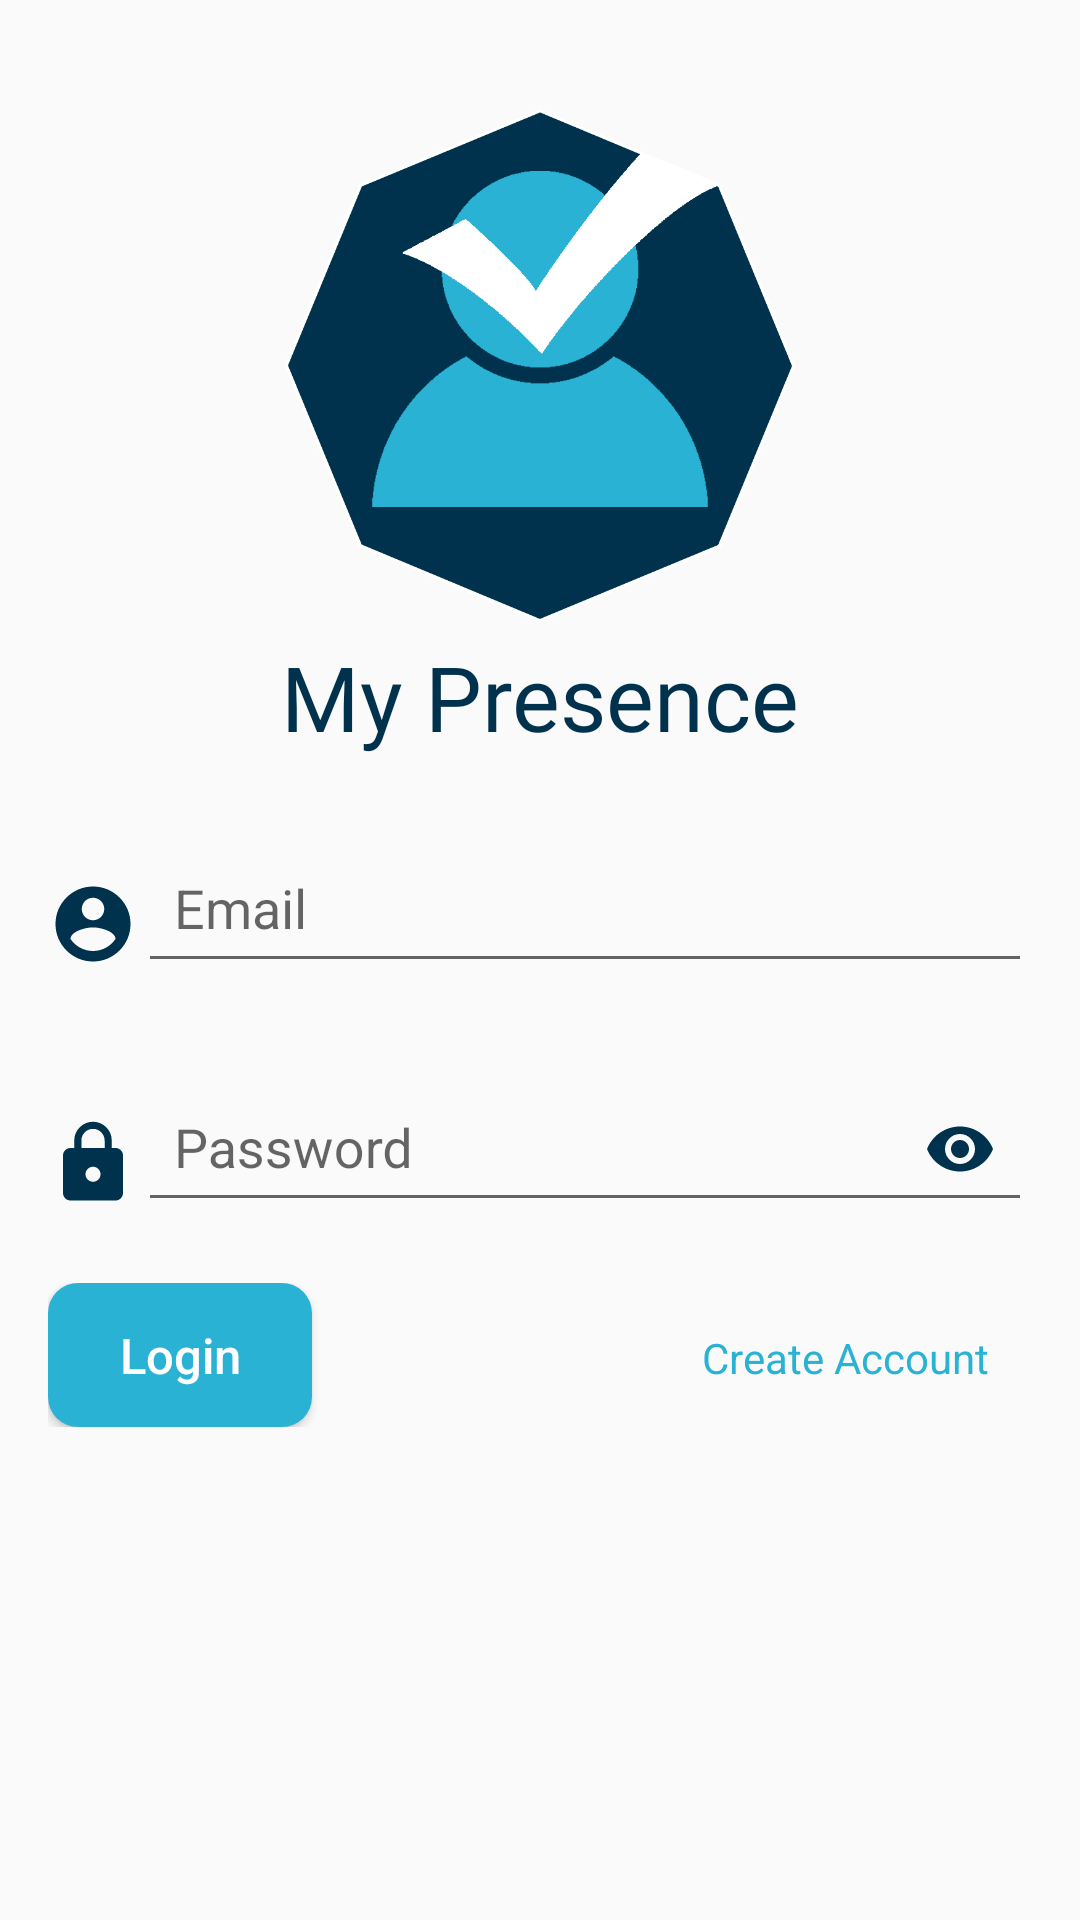

Screen size 1080w x 1920h. Icon name, then its center in pixels as [x,y]:
account: [93,924]
lock: [93,1161]
